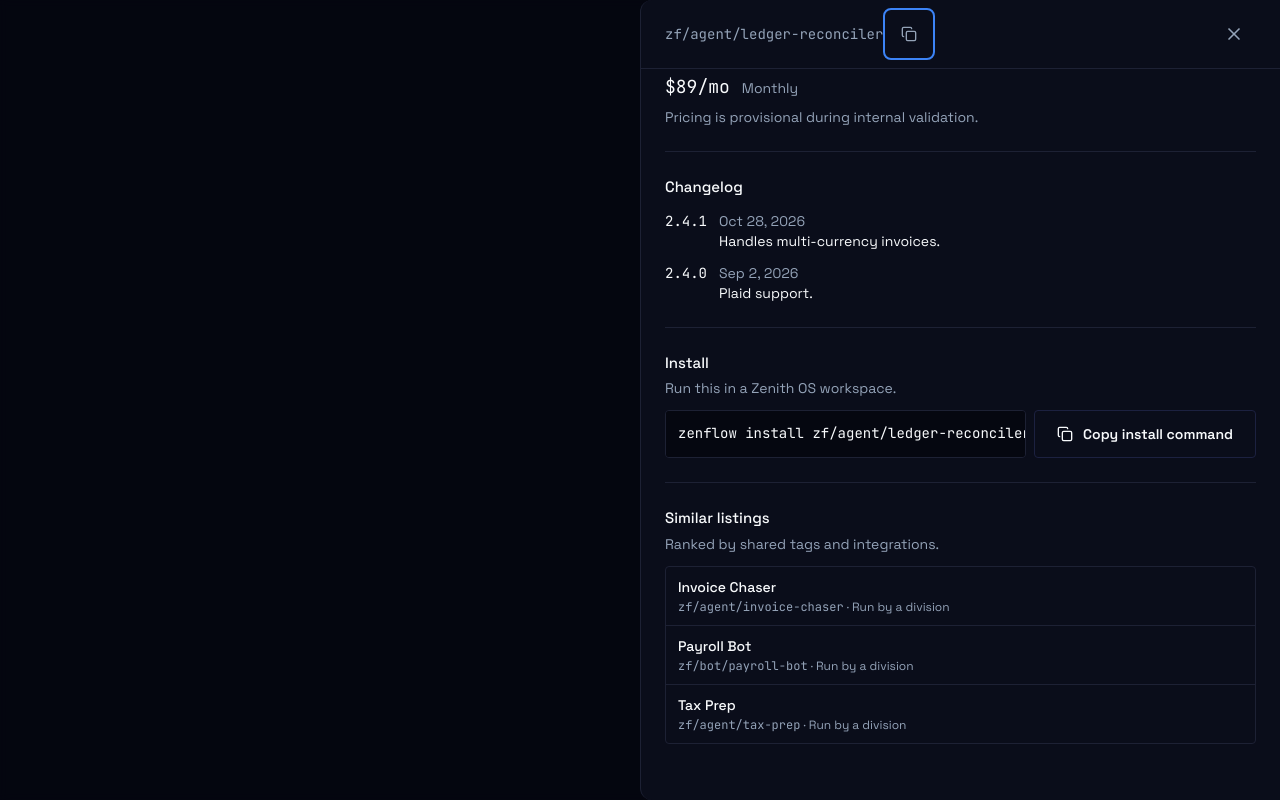
ListingSheet › copies the install command to the clipboard
(page scrolled)
Expected: the text with test id "install-command" reads "zenflow install zf/agent/ledger-reconciler@2.4.1", left=678, top=424, right=1081, bottom=442
Click the button "Copy install command" at (1145, 434), box left=1034, top=410, right=1256, bottom=458
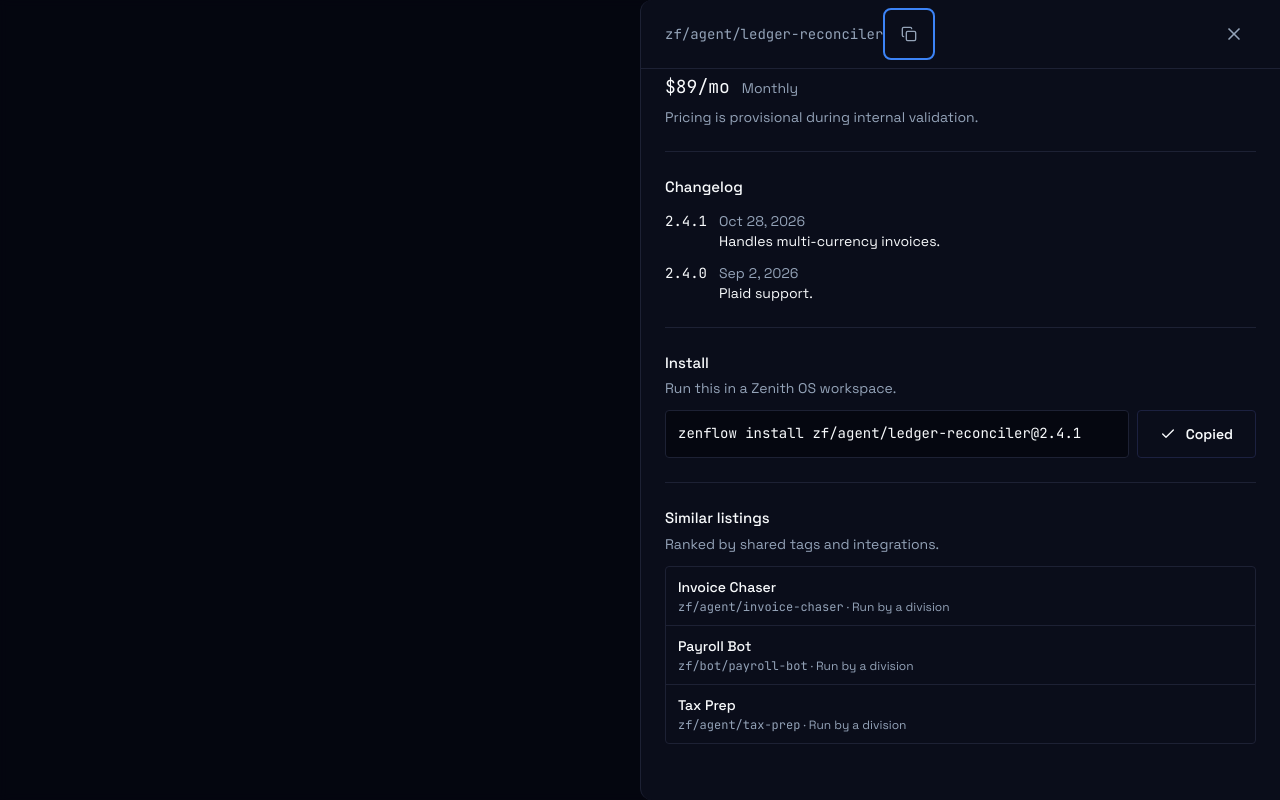
Expected: the button "Copied" is shown, left=1137, top=410, right=1256, bottom=458
